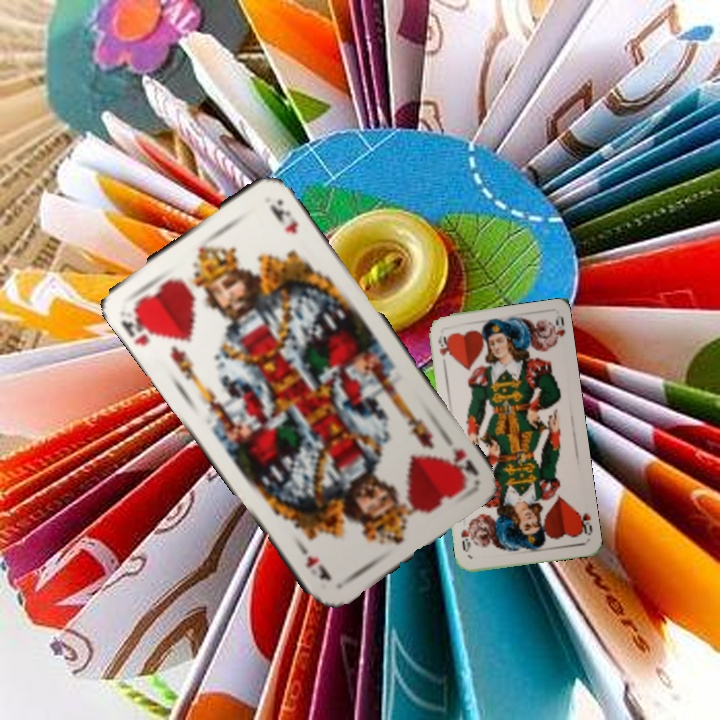HK: (437, 428, 481, 484), (117, 302, 160, 349)
HO: (574, 508, 595, 538), (434, 331, 449, 370)
